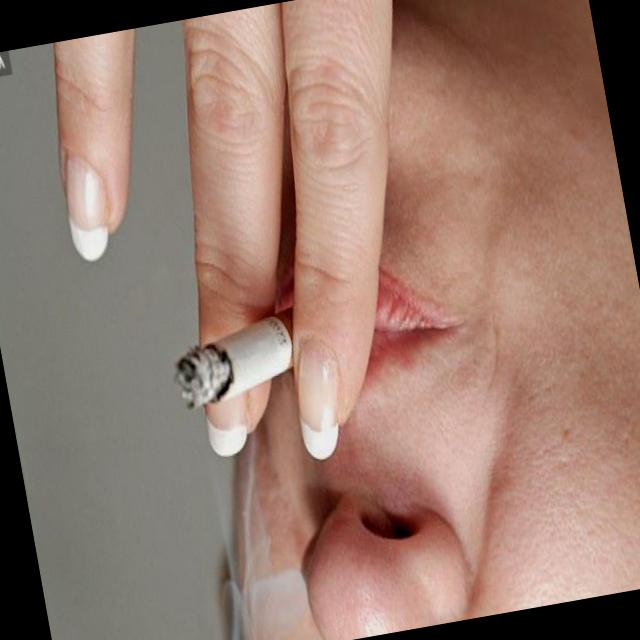cigarette: (138, 253, 382, 450)
